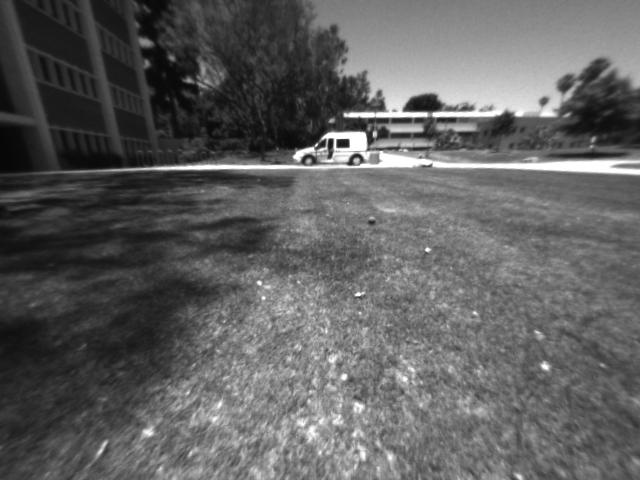dogtoy: (358, 207, 389, 230)
